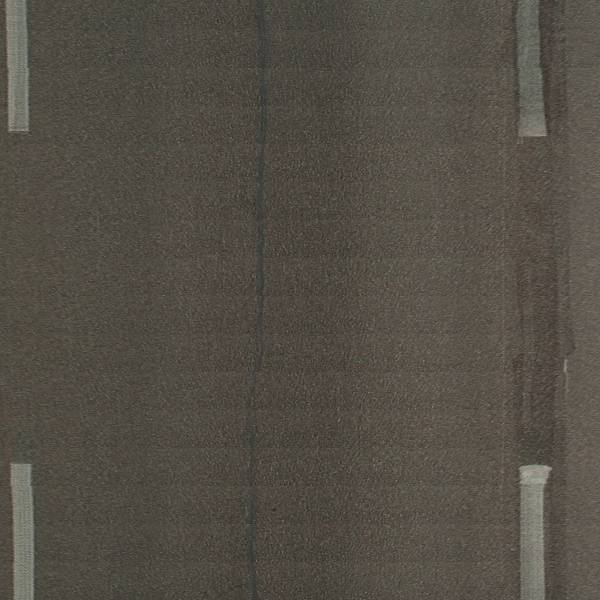road_damage: (241, 6, 270, 600)
